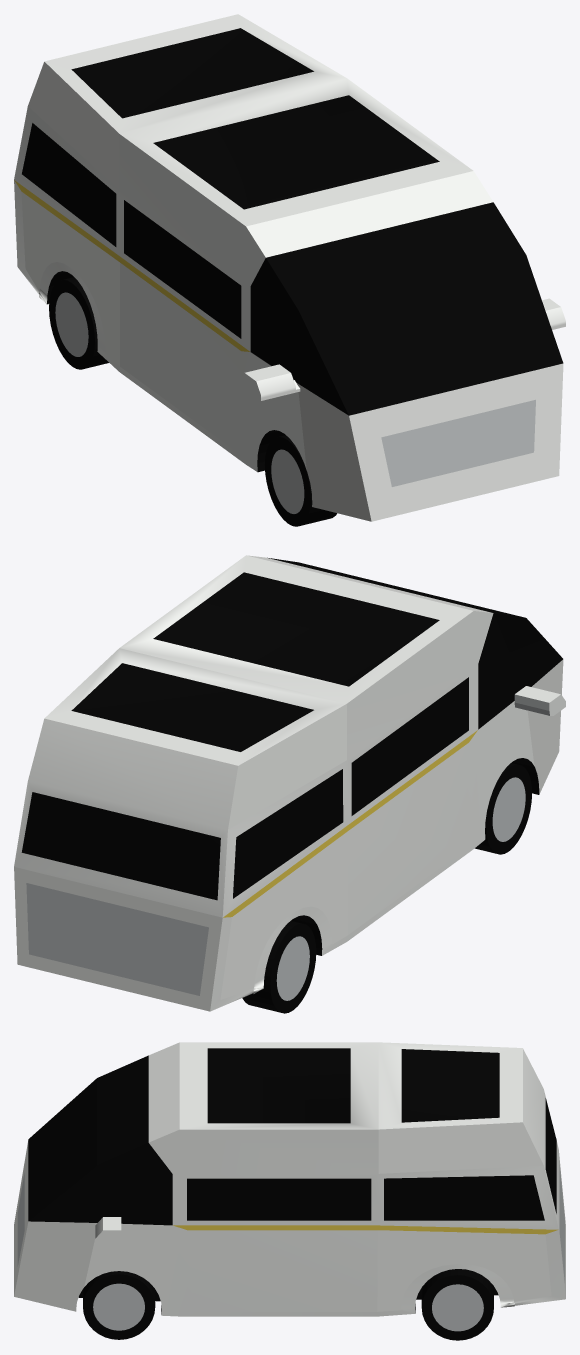
File: CarTaxi.fbx
The picture shows the model from 3 angles, top to bottom: view 1: azimuth 30°, elevation 25°; view 2: azimuth 150°, elevation 25°; view 3: azimuth 270°, elevation 25°; orthographic projection. The views are drawn at different scales.
Visible parts, largest first — view 1: Cube.006, wheel.002, wheel.003, Cube.010; view 2: Cube.006, wheel.002, wheel.003, Cube.010; view 3: Cube.006, wheel, wheel.001, Cube.011.
Boxes of the visible parts, x1,y1,x2,y2 form: Cube.006: [14, 14, 563, 521]; wheel.002: [49, 277, 108, 369]; wheel.003: [264, 435, 336, 526]; Cube.010: [244, 364, 300, 400]; Cube.006: [14, 555, 563, 1011]; wheel.002: [242, 921, 316, 1013]; wheel.003: [475, 763, 531, 854]; Cube.010: [514, 686, 565, 715]; Cube.006: [14, 1042, 565, 1316]; wheel: [421, 1269, 493, 1340]; wheel.001: [83, 1271, 155, 1339]; Cube.011: [95, 1217, 121, 1243].
Bounding box in the file's own units: 608 × 517 × 1214.
